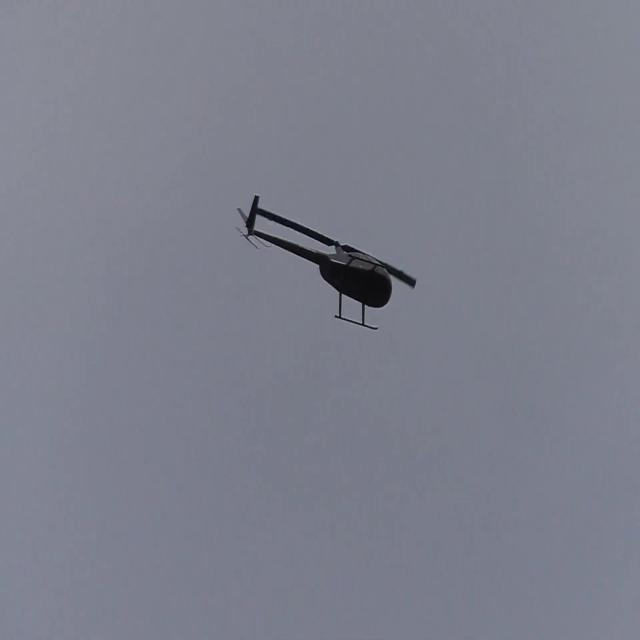CIV_HELO: (236, 193, 394, 333)
